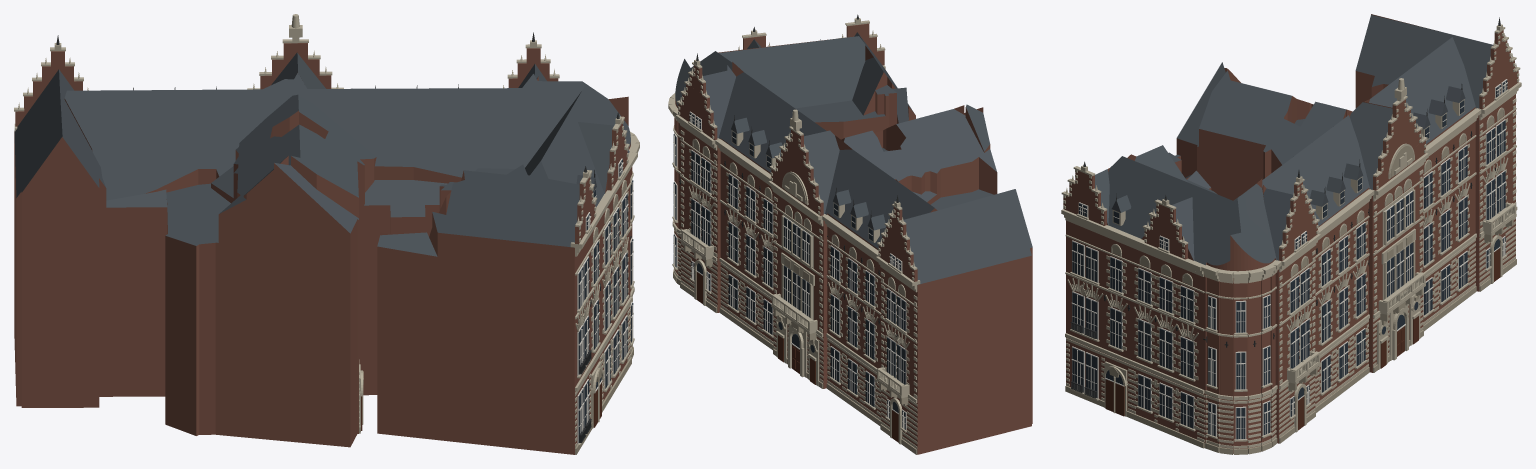
Rendered from kweekschool-zeevaart.glb.
The picture shows the model from 3 angles, left to right: view 1: azimuth 30°, elevation 25°; view 2: azimuth 150°, elevation 25°; view 3: azimuth 270°, elevation 25°; orthographic projection. The views are drawn at different scales.
Parts seen in each view (by area): view 1: kweekschool-zeevaart; view 2: kweekschool-zeevaart; view 3: kweekschool-zeevaart.
Part boxes in pixels (x1,y1,x2,y2): kweekschool-zeevaart: (14, 14, 639, 454); kweekschool-zeevaart: (668, 14, 1032, 454); kweekschool-zeevaart: (1061, 14, 1521, 454).
Size of the model in its own units: 44.03 by 25.49 by 38.56.
